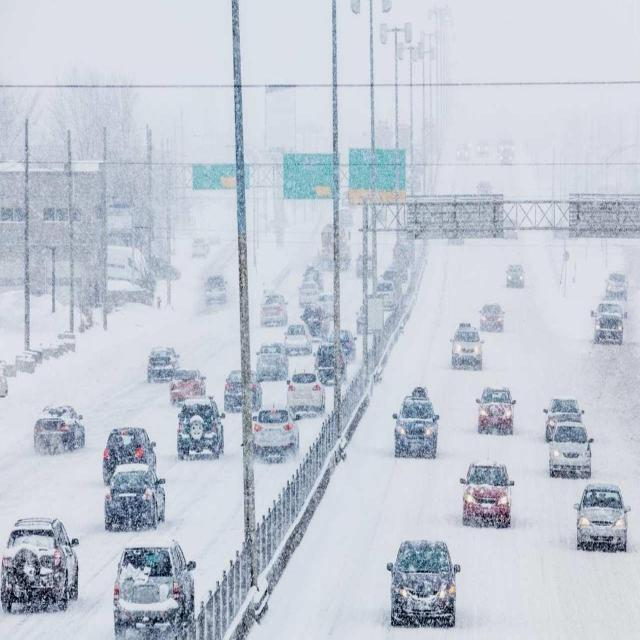Car: (113, 538, 197, 640), (0, 514, 80, 612), (384, 539, 462, 627), (103, 459, 166, 531), (573, 482, 631, 552), (460, 460, 516, 528), (392, 386, 441, 458), (102, 424, 158, 486), (176, 394, 226, 460), (250, 404, 301, 464), (546, 420, 594, 478), (33, 404, 86, 454), (475, 383, 516, 435), (543, 395, 586, 443), (286, 371, 325, 419), (223, 368, 260, 412), (168, 366, 208, 406), (450, 322, 484, 369), (591, 302, 626, 344), (314, 342, 347, 384), (255, 343, 289, 383), (147, 346, 181, 384), (282, 321, 312, 355), (260, 292, 288, 328), (300, 304, 329, 338), (203, 274, 229, 311), (331, 328, 357, 362), (298, 278, 323, 310), (479, 302, 505, 332), (15, 350, 39, 374), (55, 331, 76, 354), (506, 264, 526, 288)
